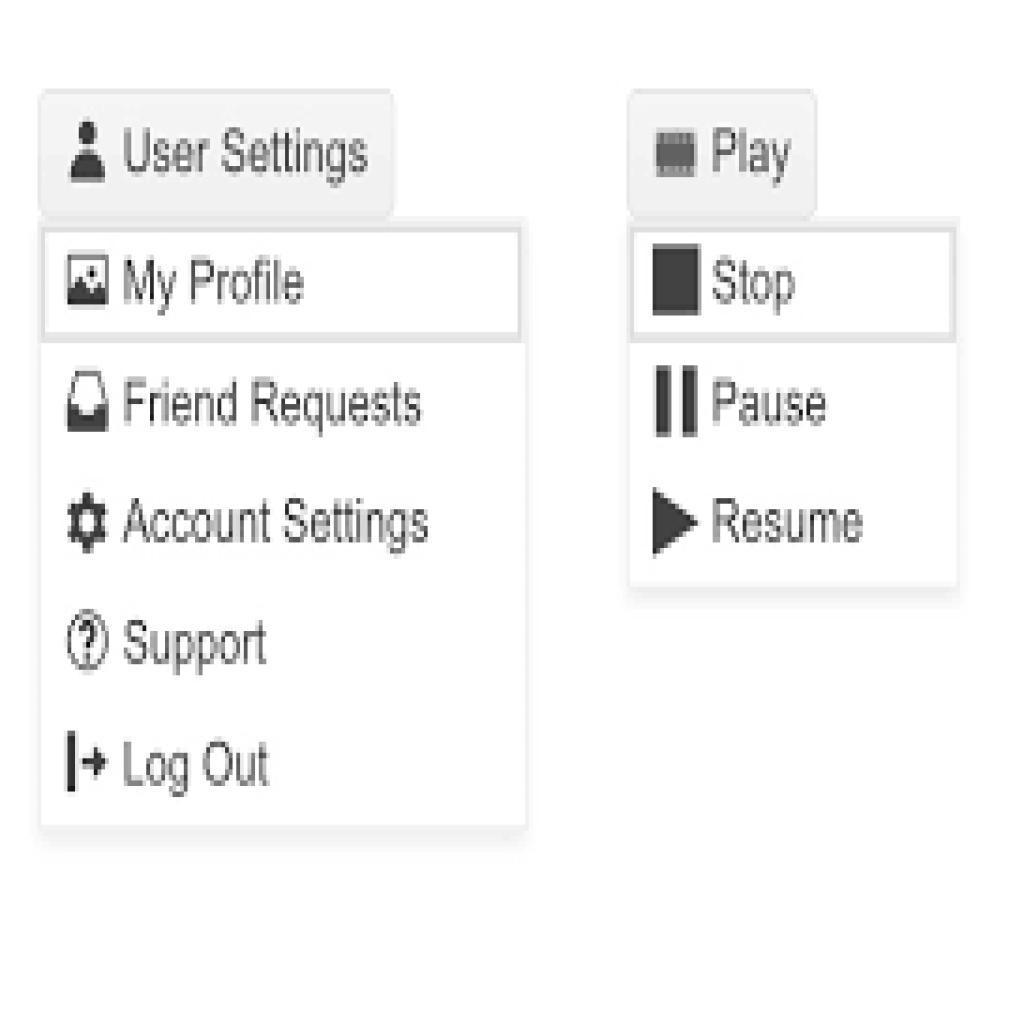icon: (637, 478, 710, 591), (642, 227, 713, 332), (643, 102, 708, 199), (55, 713, 113, 819), (651, 356, 705, 461), (58, 351, 118, 444), (58, 592, 115, 689), (58, 116, 112, 193), (61, 245, 110, 317), (66, 487, 114, 559)
label: (117, 495, 437, 561), (122, 372, 427, 437), (119, 121, 373, 192), (121, 252, 313, 319), (121, 735, 277, 804), (712, 488, 871, 555), (120, 615, 280, 678), (714, 373, 836, 435), (714, 250, 796, 322), (712, 128, 796, 190)
